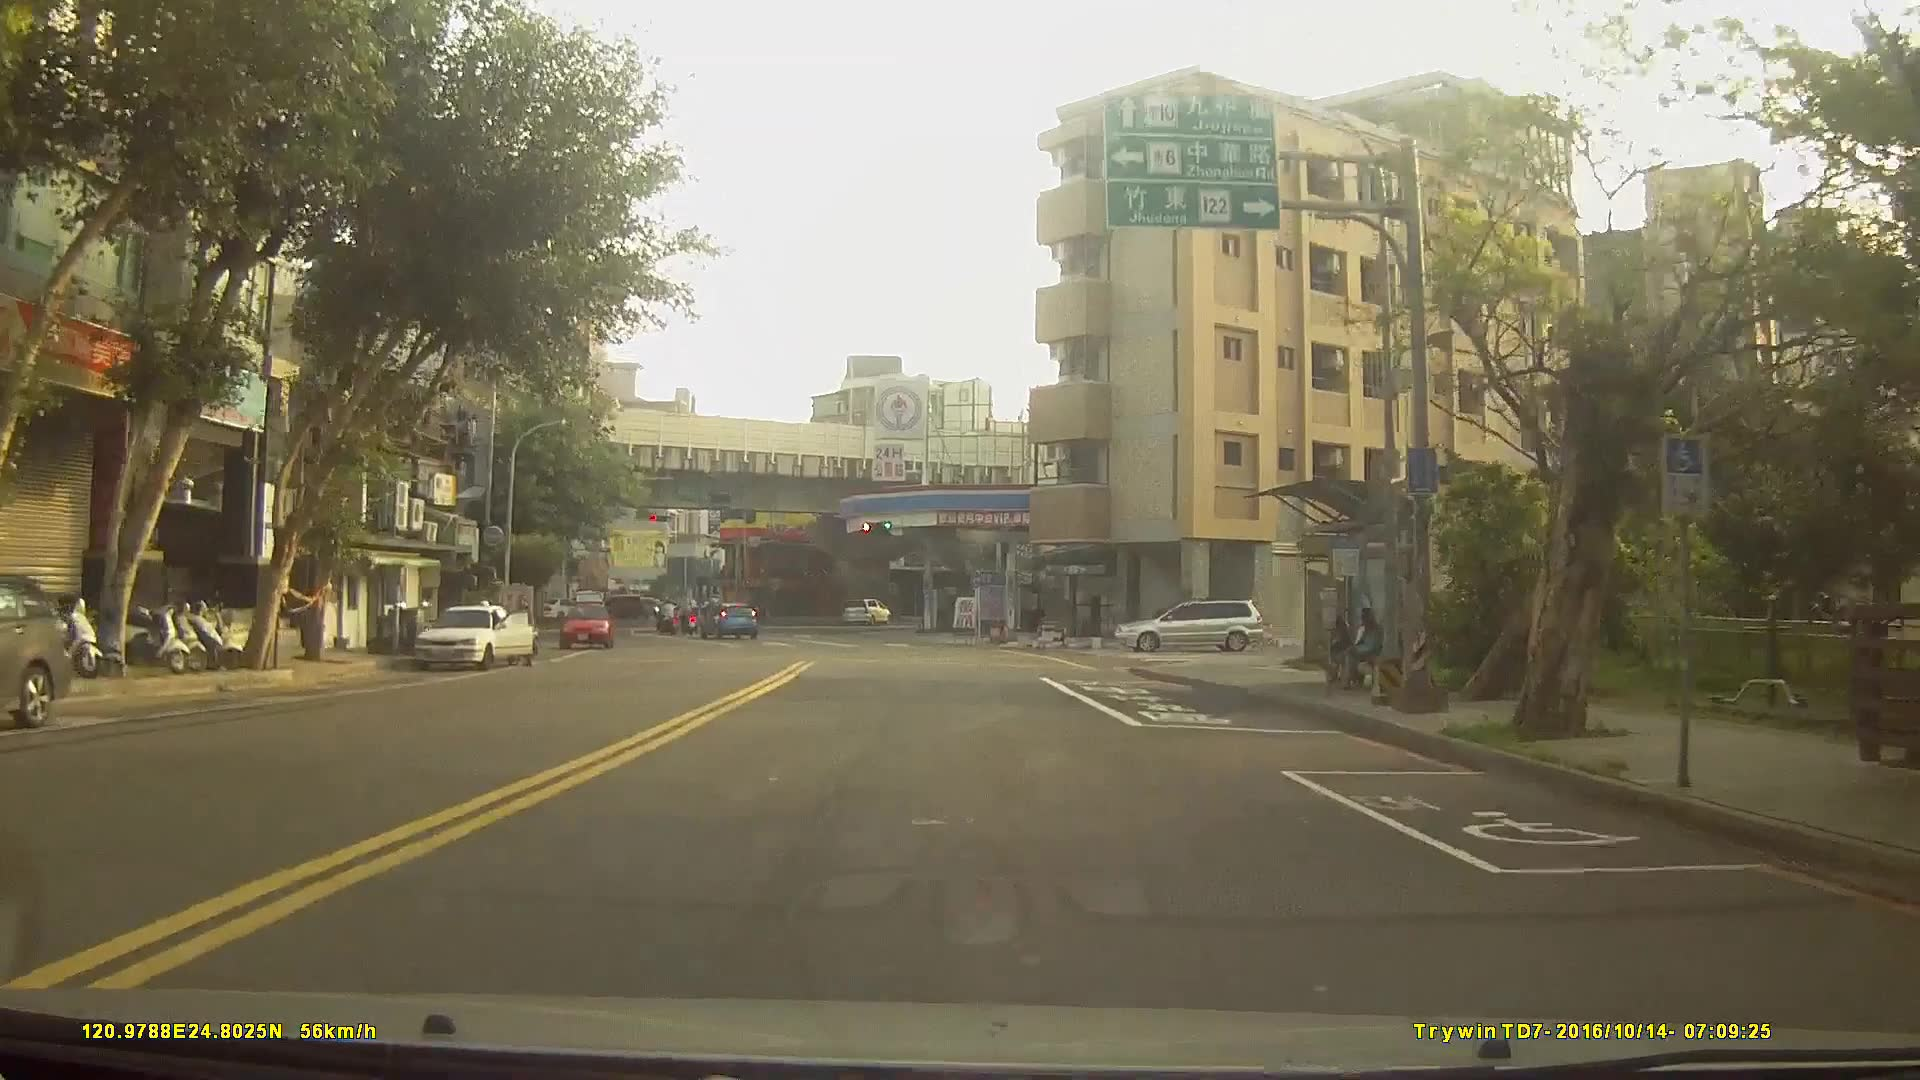pedestrian: (1348, 602, 1389, 704)
rider: (654, 597, 680, 637)
vehicle: (0, 572, 72, 728), (412, 599, 533, 670), (1116, 597, 1265, 653), (558, 598, 616, 649), (695, 597, 759, 638), (587, 591, 644, 621), (842, 598, 891, 627)
